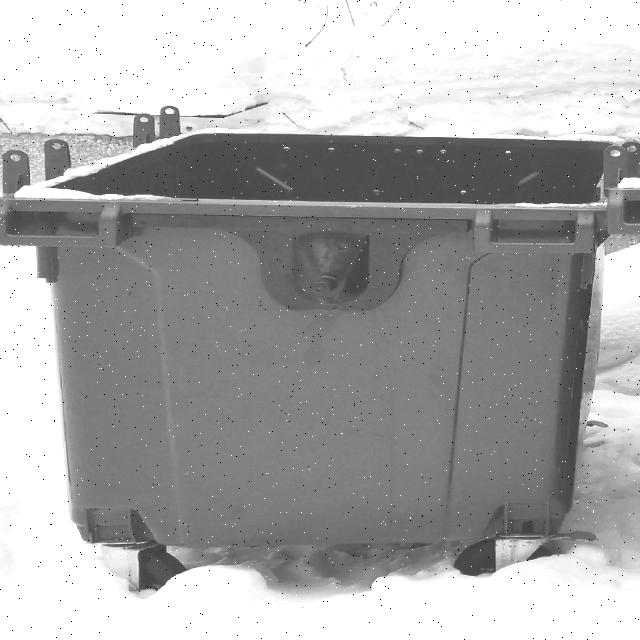Trashcan: (0, 62, 640, 584)
